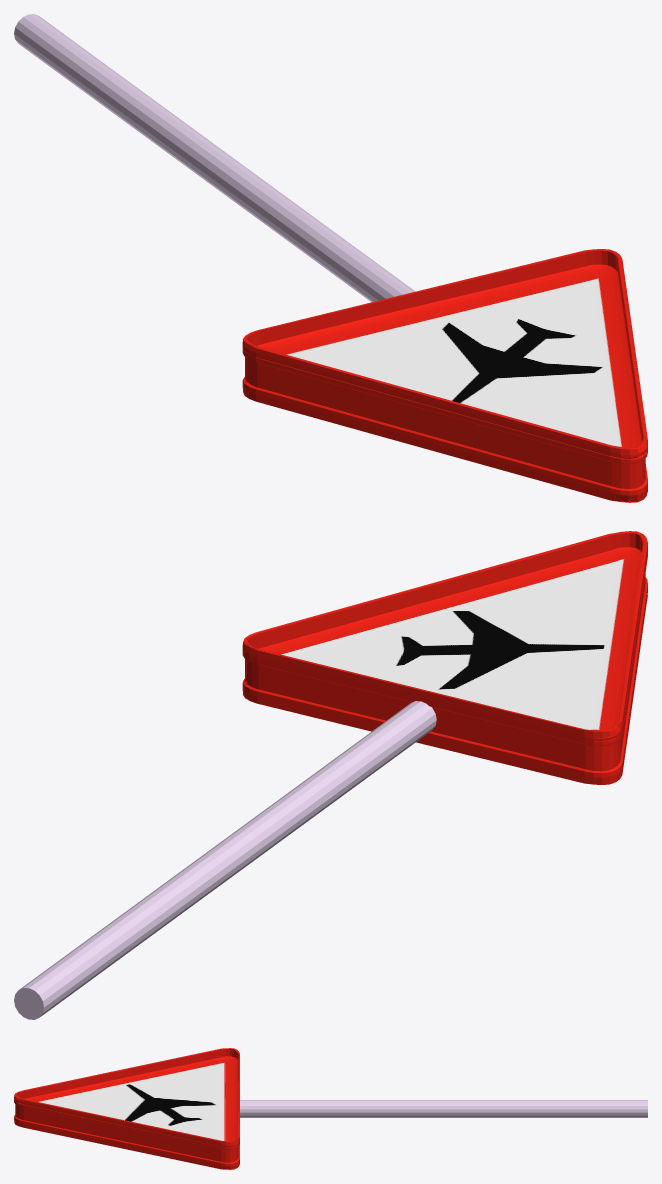
Rendered from planePanel.fbx.
3 renders of one model, top to bottom at view 1: azimuth 30°, elevation 25°; view 2: azimuth 150°, elevation 25°; view 3: azimuth 270°, elevation 25°, orthographic. The views are drawn at different scales.
Parts seen in each view (by area): view 1: Cube, Cylinder; view 2: Cube, Cylinder; view 3: Cube, Cylinder.
Boxes of the visible parts, left/top/right/bottom form: Cube: left=242, top=249, right=647, bottom=502; Cylinder: left=14, top=14, right=415, bottom=302; Cube: left=242, top=531, right=647, bottom=784; Cylinder: left=14, top=701, right=436, bottom=1019; Cube: left=14, top=1048, right=239, bottom=1169; Cylinder: left=240, top=1100, right=647, bottom=1117.
Bounding box in the file's own units: 106 × 14.61 × 300.
